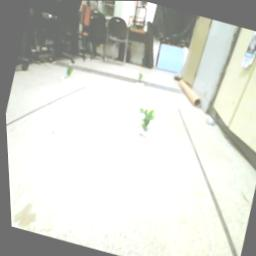herb: (131, 105, 156, 134), (62, 65, 74, 81), (134, 73, 144, 84)
